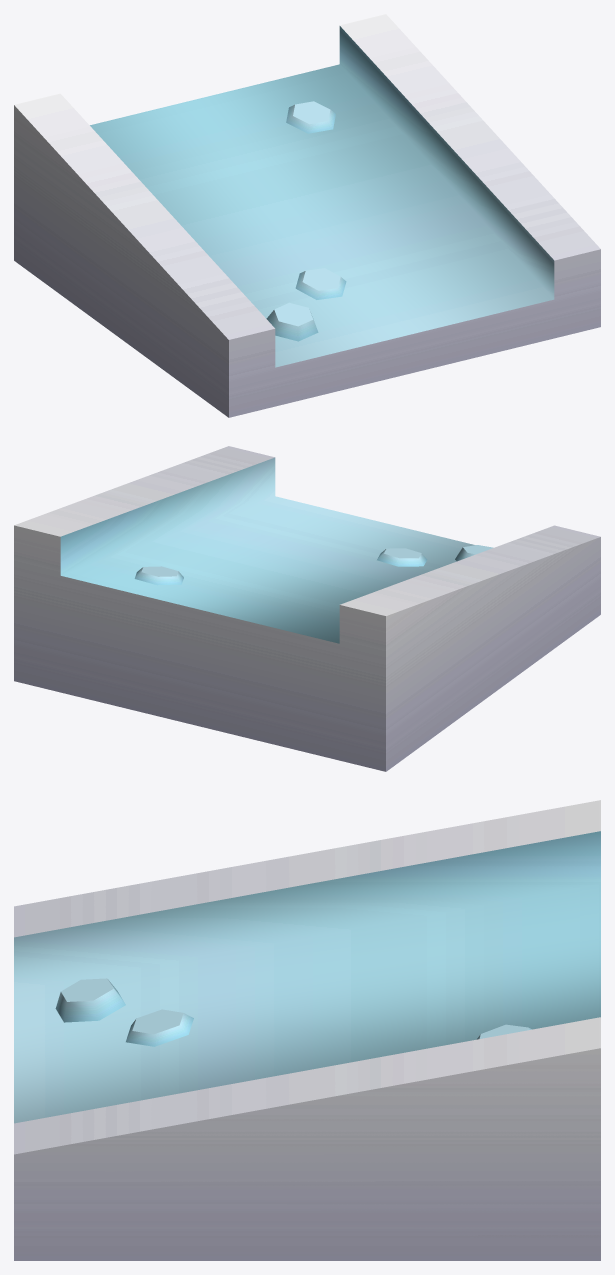
File: snow-tile-straight-slope.glb
3 renders of one model, top to bottom at view 1: azimuth 30°, elevation 25°; view 2: azimuth 150°, elevation 25°; view 3: azimuth 270°, elevation 25°, orthographic. The views are drawn at different scales.
Visible parts, largest first — view 1: snow-tile-straight-slope; view 2: snow-tile-straight-slope; view 3: snow-tile-straight-slope.
Boxes of the visible parts, left/top/right/bottom form: snow-tile-straight-slope: left=14, top=14, right=600, bottom=417; snow-tile-straight-slope: left=14, top=446, right=600, bottom=771; snow-tile-straight-slope: left=14, top=800, right=600, bottom=1260.
Size of the model in its own units: 1 by 0.3999 by 1.
1 material, 1 textured.
